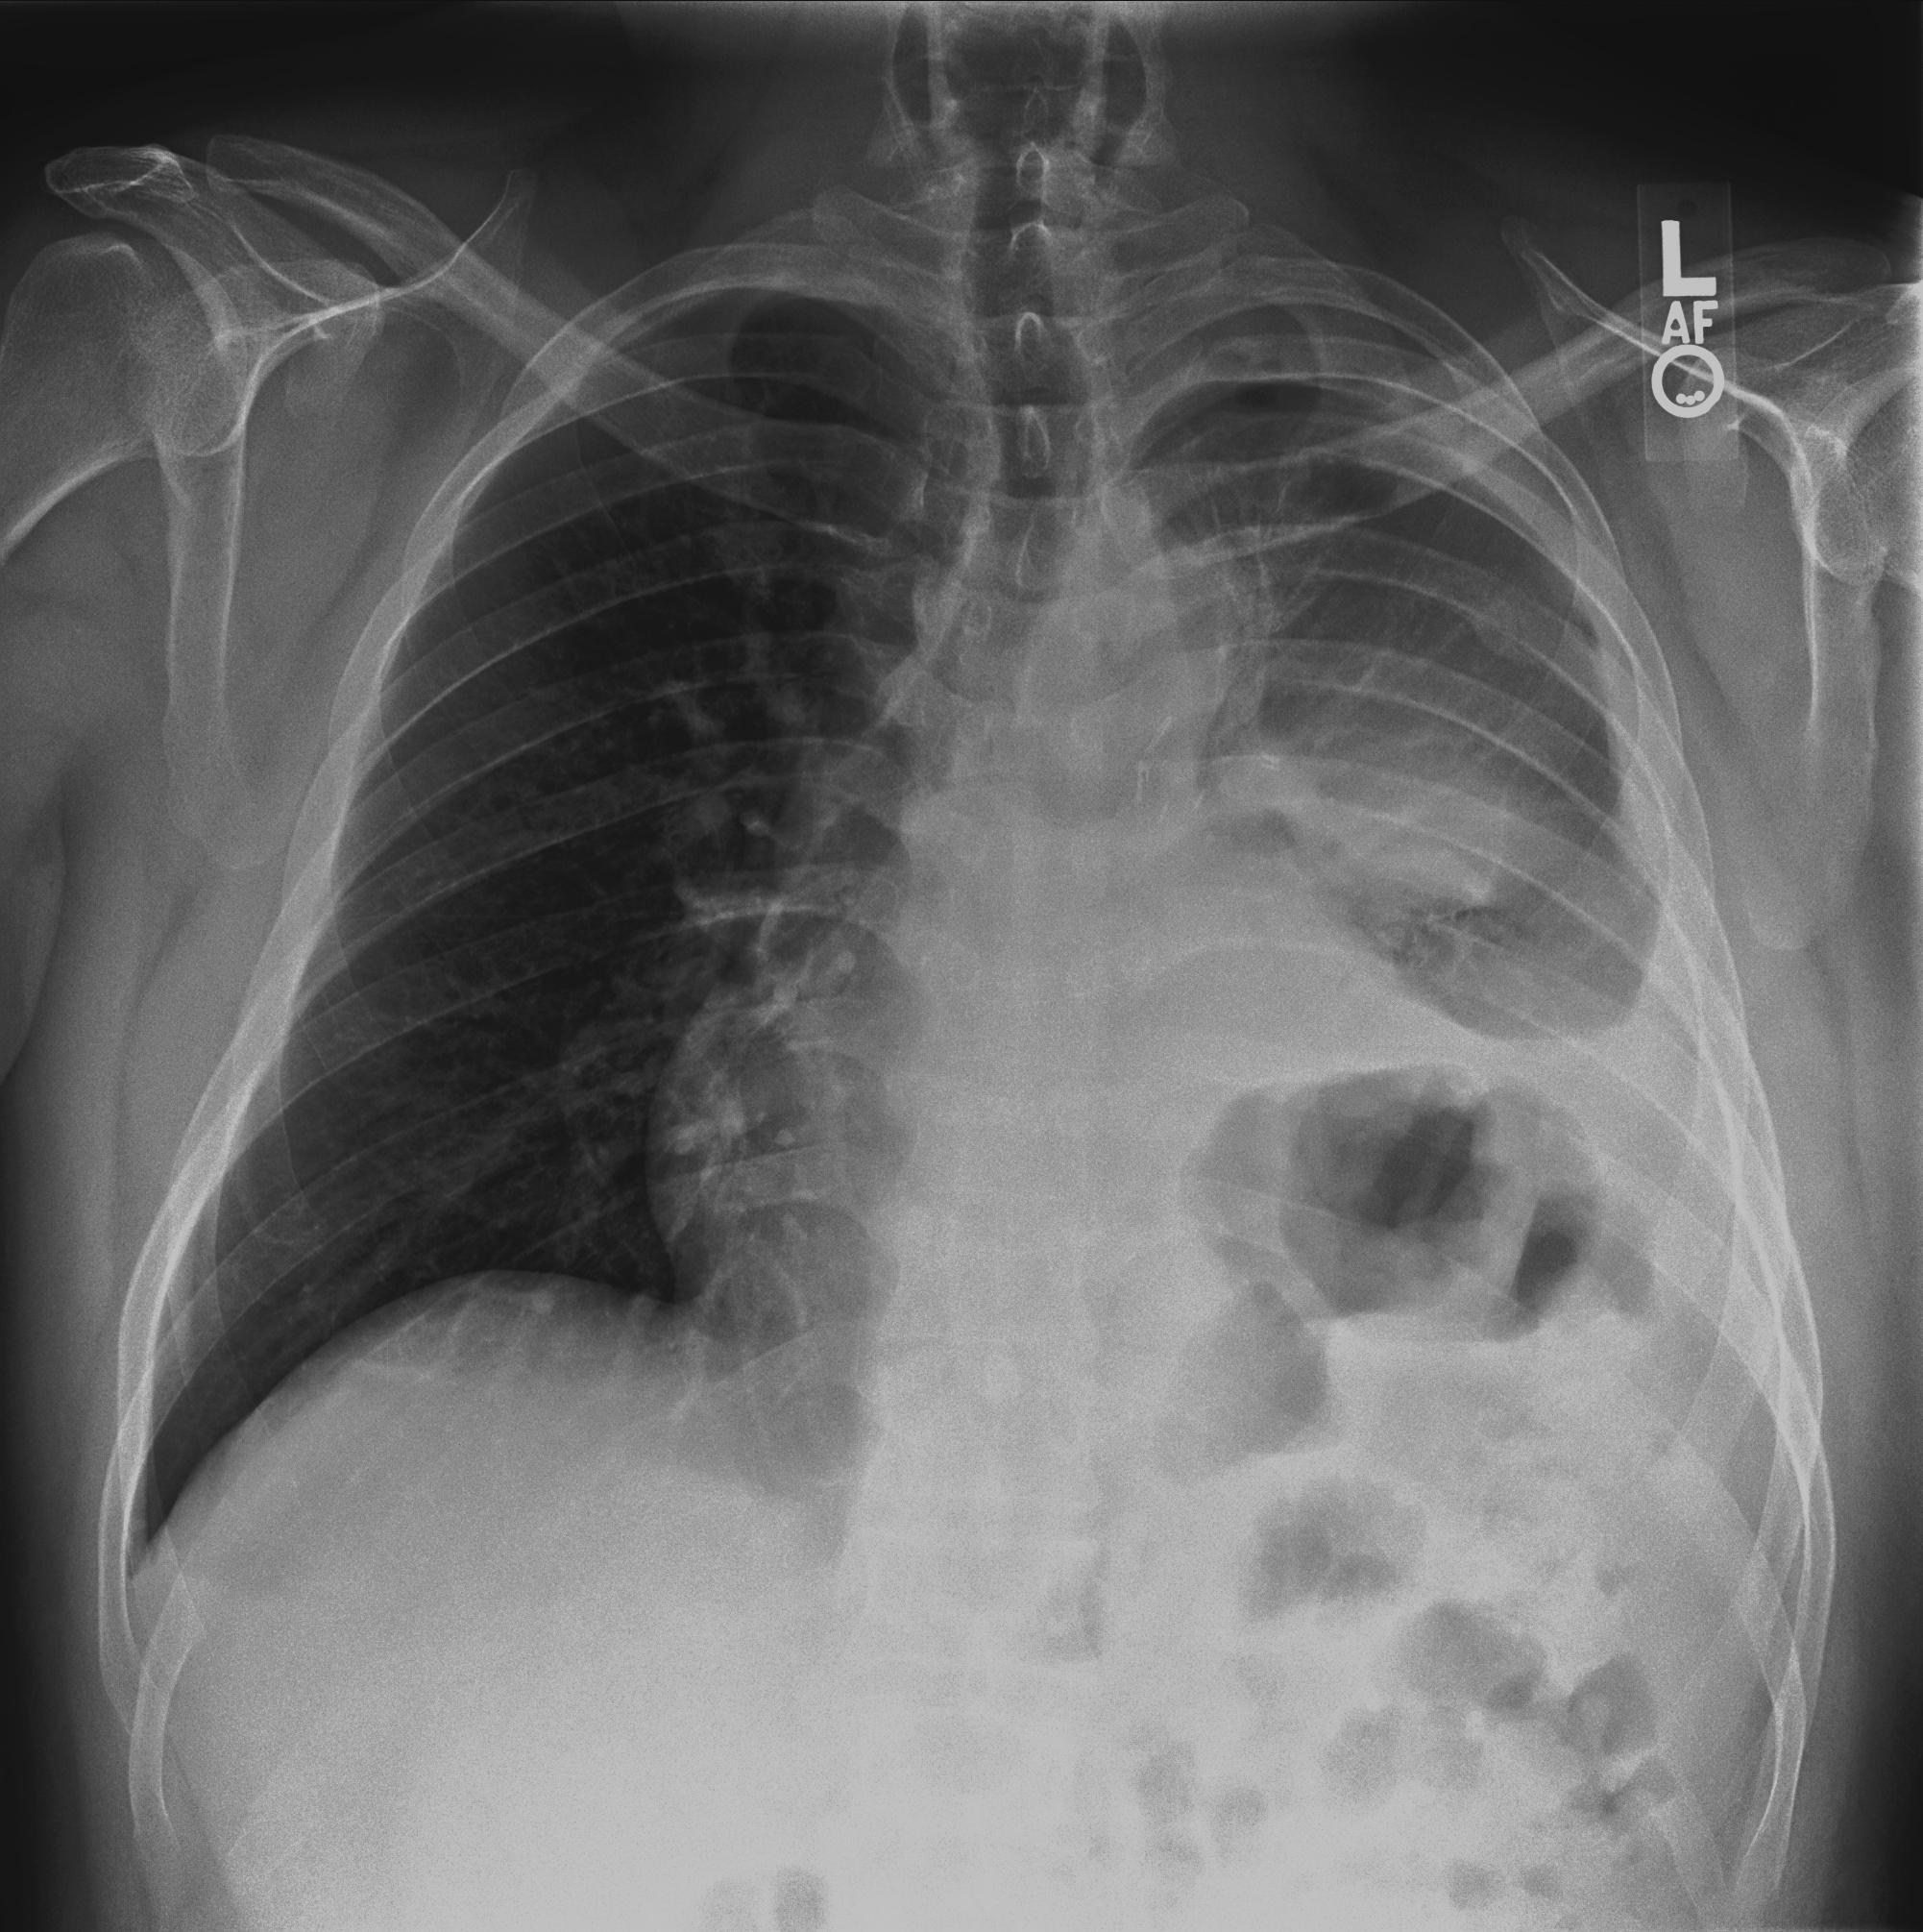Pleural Effusion: (1477, 1006, 1786, 1566)
